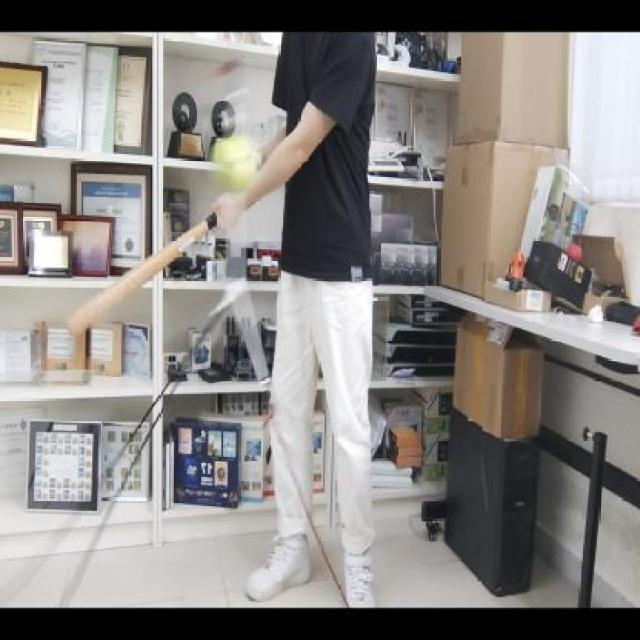baseball: (209, 132, 262, 194)
